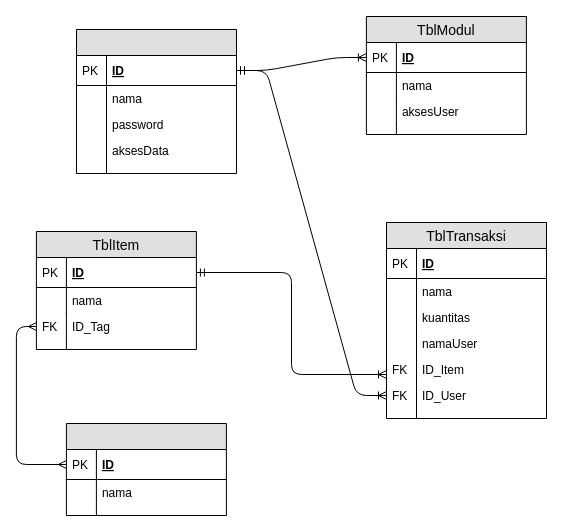
This 563x532 diagram has some shape labels left out. The shapes that lost their labels are listed below. From the top down, each one's box as (x1, y1, x2, y2) in pixels, then its label:
(76, 28, 236, 174): TblUser
(65, 422, 226, 516): TblTag
